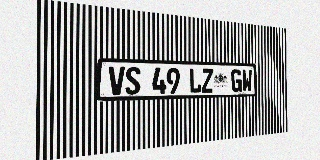4: (152, 67, 166, 94)
9: (167, 68, 180, 94)
G: (231, 69, 242, 92)
L: (189, 68, 201, 93)
S: (125, 67, 140, 95)
V: (109, 66, 125, 95)
W: (242, 69, 252, 92)
Z: (202, 68, 213, 93)
